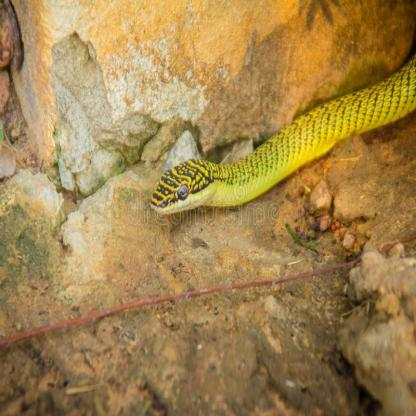Snake: (145, 52, 416, 220)
